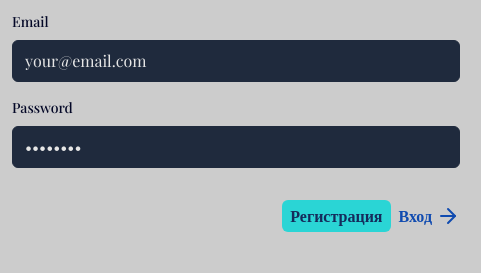
Test case: SignupForm › shows API error when Email alredy registered
❌ Вводим неверные данные (не те, что в handler)
In the field labelled "Email": point(236, 61) [12,40,460,82], type "stefro97@yandex.ru"
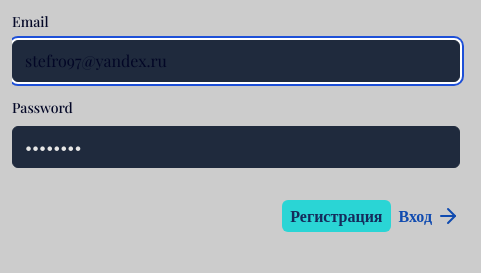
In the password field labelled "Password": point(236, 147) [12,126,460,168], type "wrongpass"
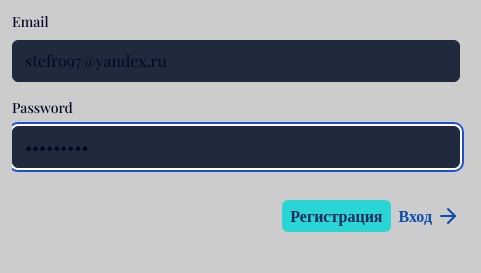
Click the button "Регистрация": point(336, 216) [282,200,390,232]
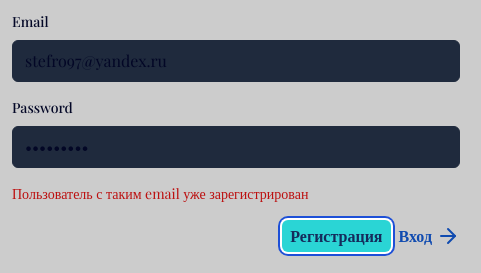
Now the text "Пользователь с таким email уже зарегистрирован" is shown, box [12,184,308,203]
